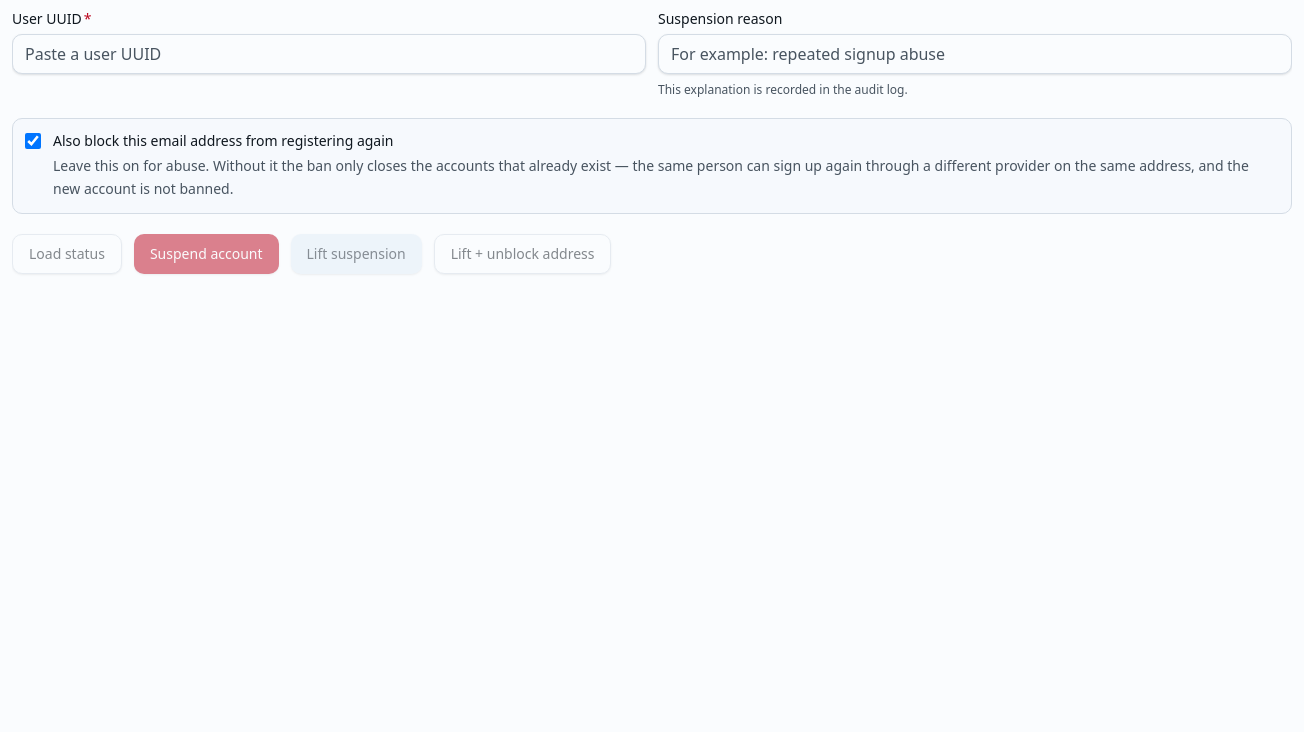
Scenario: BanUserPanel › warns plainly when the address was left open
Type "u-1" into the field labelled "User UUID".
click(329, 54); type("u-1")  # box [12, 34, 646, 74]
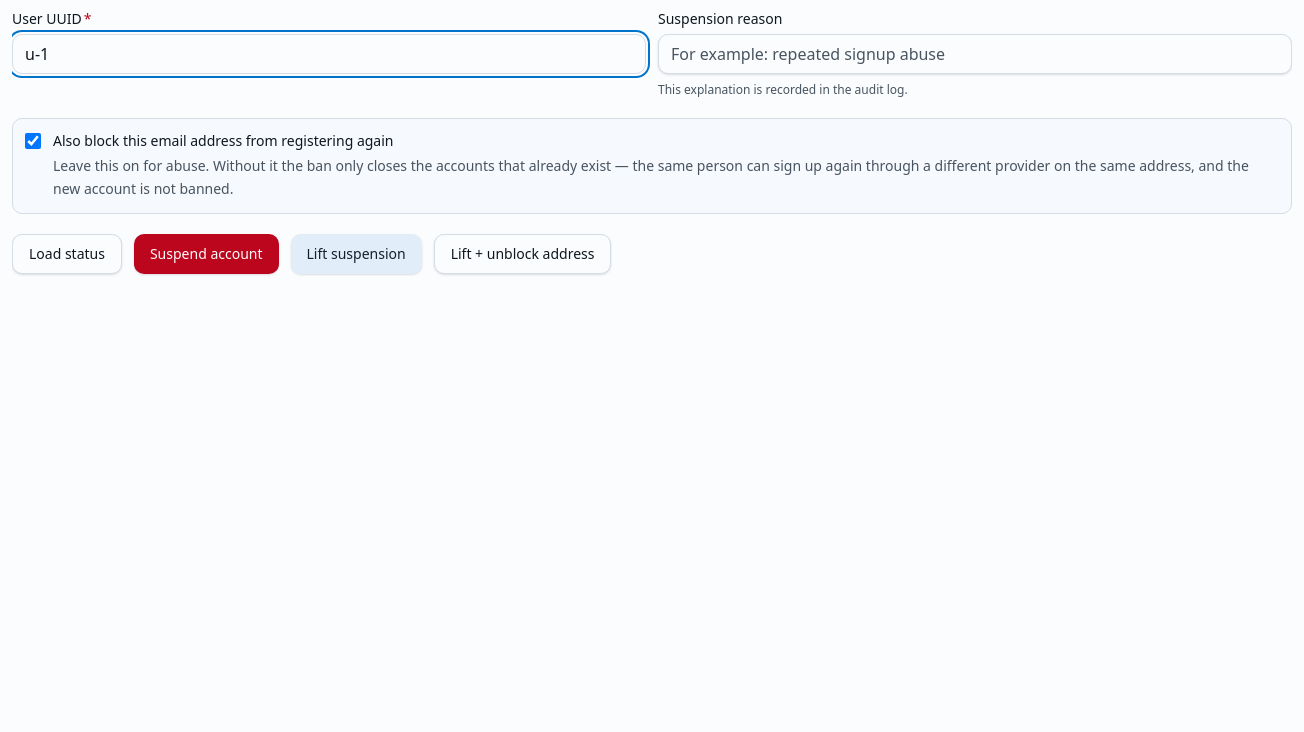
Click the checkbox labelled "Also block this email address".
click(33, 141)  # box [25, 133, 41, 149]
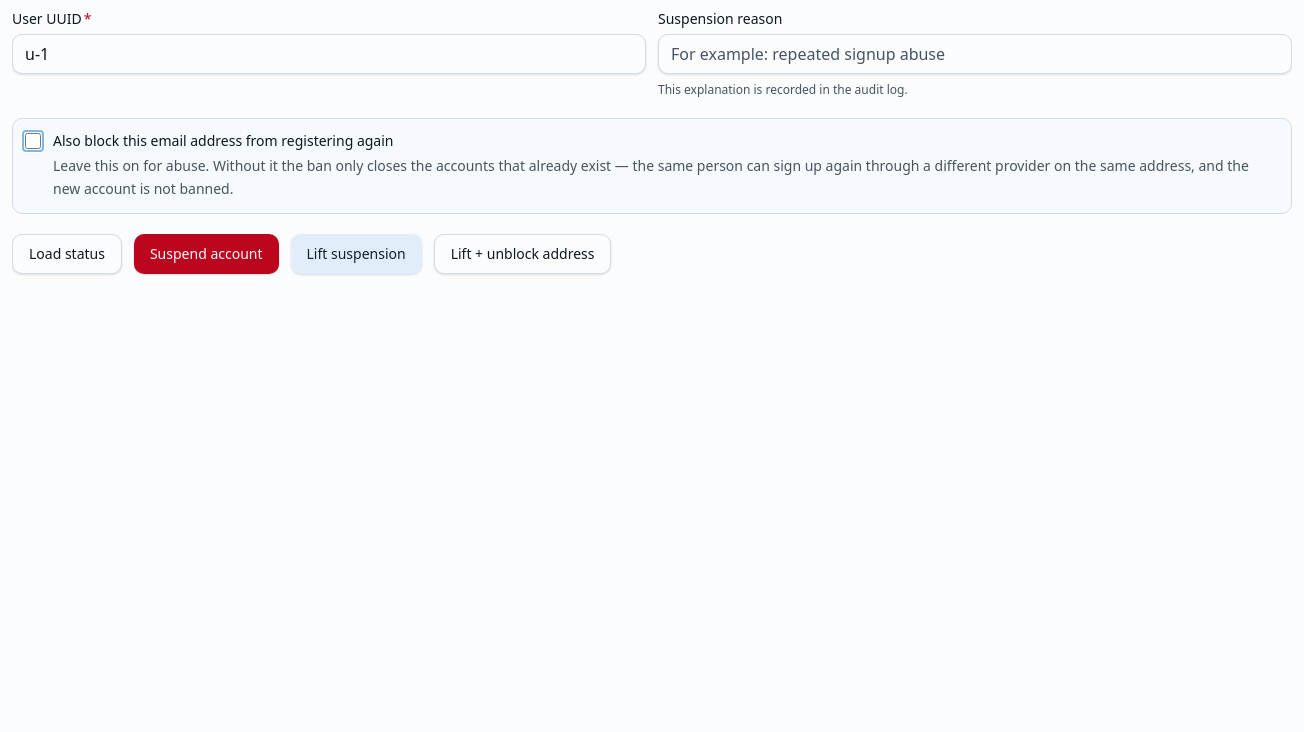
Click the button "Suspend account".
click(206, 254)  # box [134, 234, 278, 274]
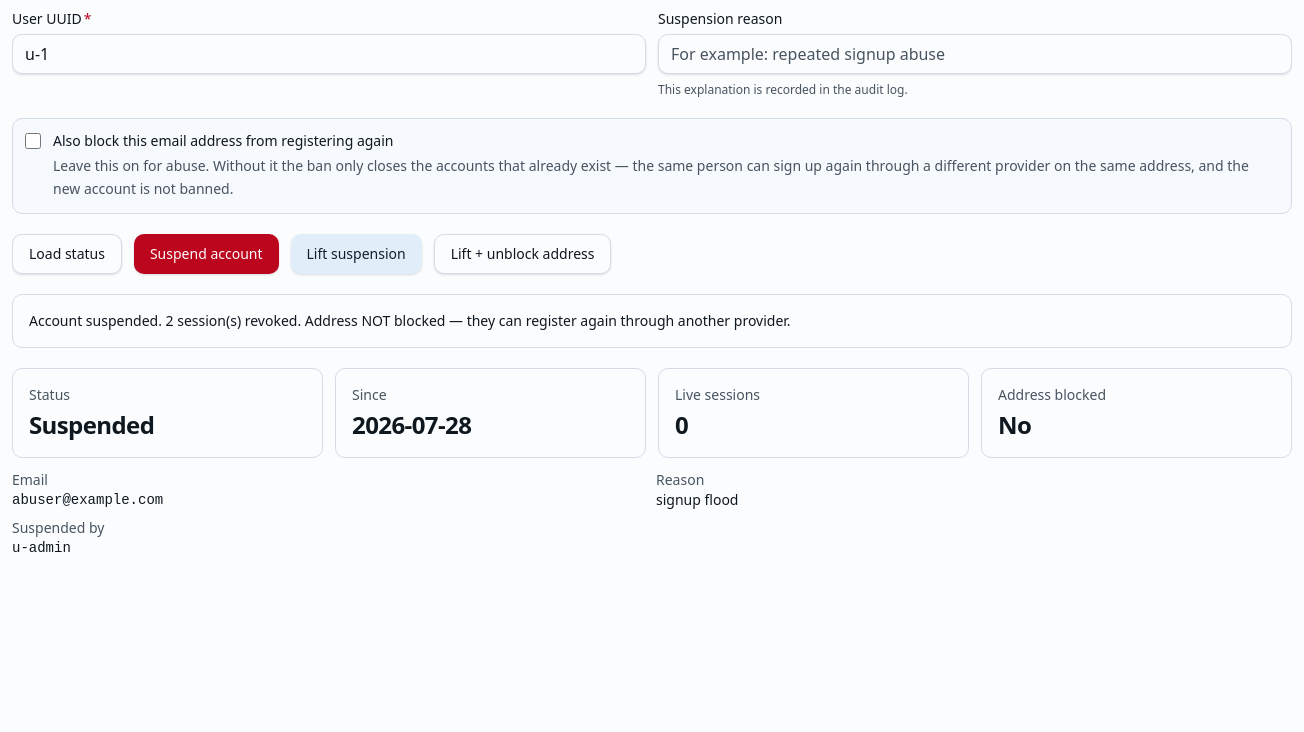
Check: the message shows "can register again through another provider", box [29, 310, 791, 330]
